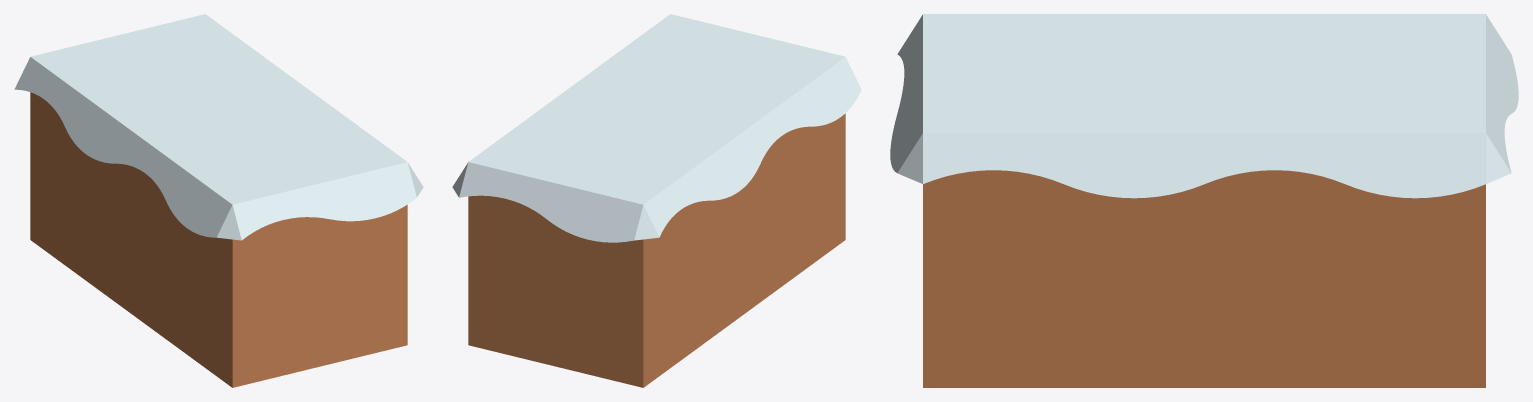
Rendered from blockSnowLong.fbx.
3 views of the same model, side by side, from view 1: azimuth 30°, elevation 25°; view 2: azimuth 150°, elevation 25°; view 3: azimuth 270°, elevation 25° (orthographic). The views are drawn at different scales.
Parts seen in each view (by area): view 1: blockSnowLong; view 2: blockSnowLong; view 3: blockSnowLong.
Part boxes in pixels (left/top/right/bottom): blockSnowLong: left=14, top=14, right=423, bottom=387; blockSnowLong: left=452, top=14, right=861, bottom=387; blockSnowLong: left=890, top=14, right=1518, bottom=387.
Bounding box in the file's own units: 12.33 × 10 × 22.33.
